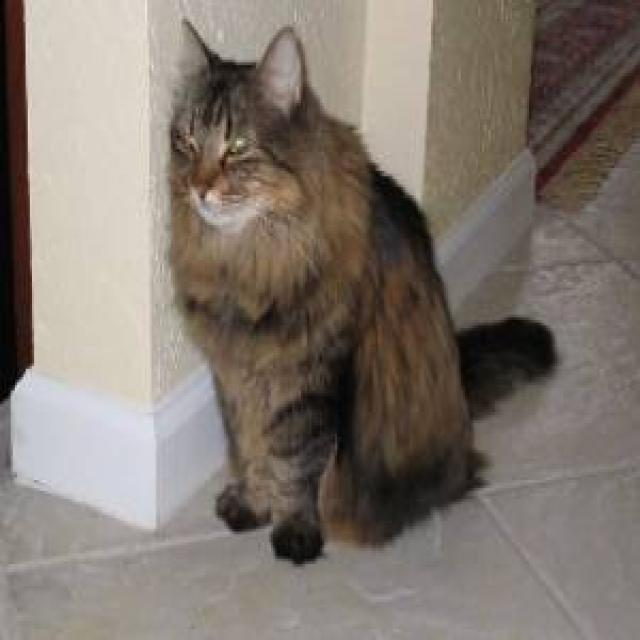Maine_Coon: (166, 14, 303, 228)
